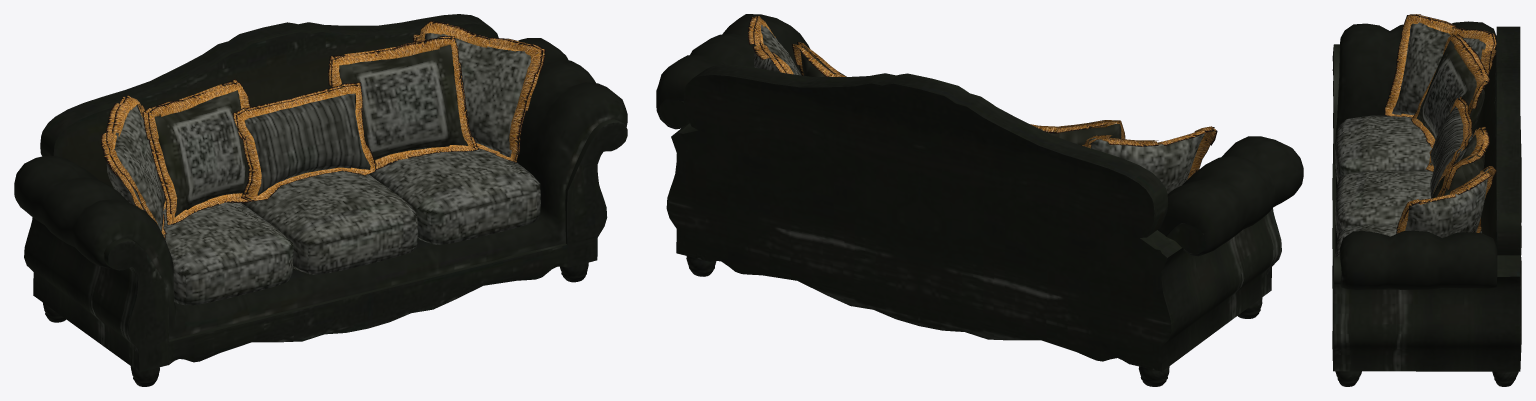
Rendered from nyb_scent_sofa.glb.
3 renders of one model, left to right at view 1: azimuth 30°, elevation 25°; view 2: azimuth 150°, elevation 25°; view 3: azimuth 270°, elevation 25°, orthographic. The views are drawn at different scales.
Visible parts, largest first — view 1: sofa_03; view 2: sofa_03; view 3: sofa_03.
Part boxes in pixels (x1,y1,x2,y2): sofa_03: (14,14,627,386); sofa_03: (656,14,1303,386); sofa_03: (1332,14,1521,386).
Size of the model in its own units: 2.73 by 1.12 by 0.9251.
2 materials, 2 textured.
